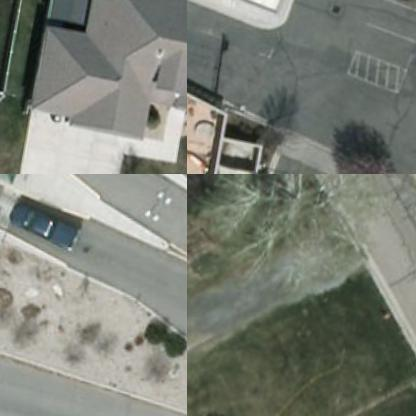car: (3, 199, 84, 253)
